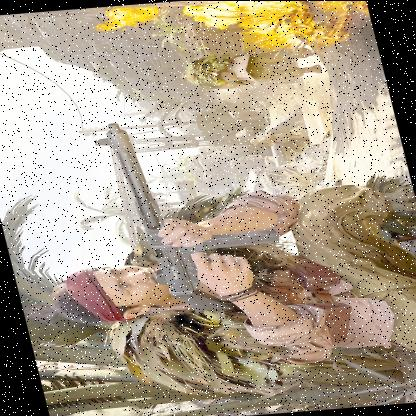rifle: (91, 110, 239, 326)
